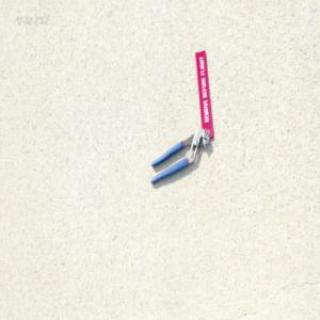LuggageTagtrack_idkeyframe: (193, 50, 213, 138)
Pliertrack_idkeyframe: (149, 127, 209, 184)
